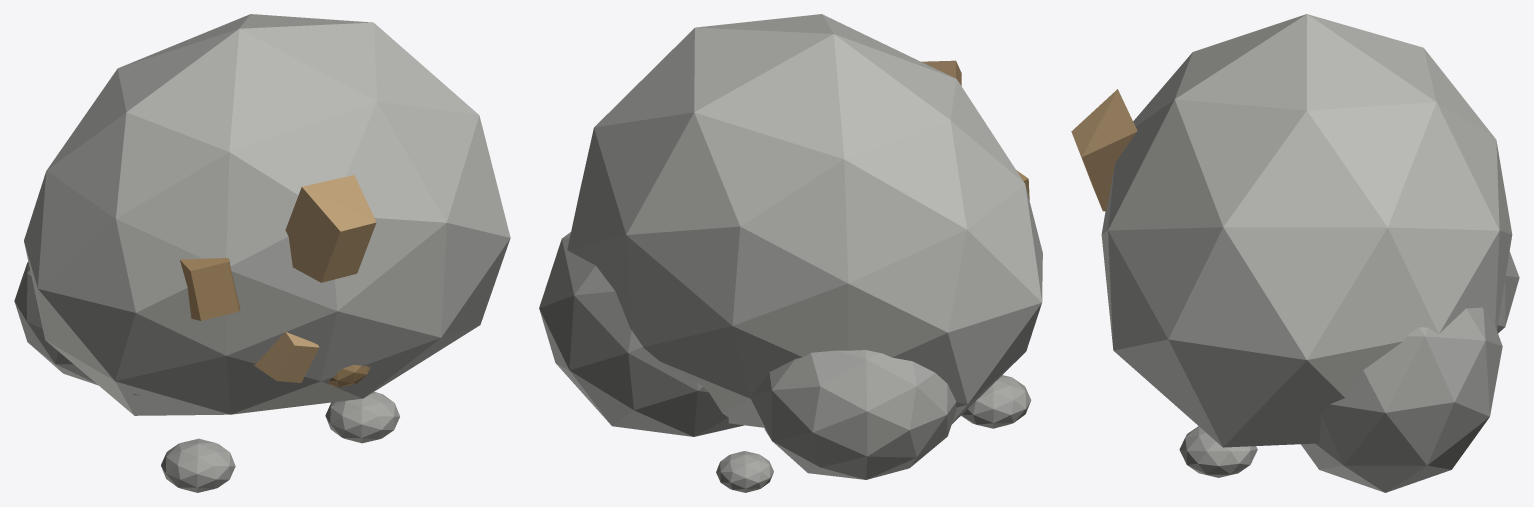
The model's file is temp_minable_rock_allover.glb.
The picture shows the model from 3 angles, left to right: view 1: azimuth 30°, elevation 25°; view 2: azimuth 150°, elevation 25°; view 3: azimuth 270°, elevation 25°; orthographic projection. The views are drawn at different scales.
Parts seen in each view (by area): view 1: MainRock, OreChunk1, Pebble1, OreChunk2, Pebble2, RearStone, OreChunk5, OreNodule3; view 2: MainRock, RearStone, RockLump, Pebble1, Pebble3; view 3: MainRock, RockLump, OreChunk1, Pebble2, RearStone.
Part boxes in pixels (left/top/right/bottom): MainRock: left=24, top=14, right=510, bottom=415; OreChunk1: left=285, top=175, right=376, bottom=282; Pebble1: left=161, top=438, right=235, bottom=492; OreChunk2: left=180, top=258, right=240, bottom=320; Pebble2: left=325, top=392, right=399, bottom=443; RearStone: left=14, top=262, right=98, bottom=385; OreChunk5: left=254, top=332, right=319, bottom=382; OreNodule3: left=328, top=364, right=370, bottom=387; MainRock: left=567, top=14, right=1042, bottom=427; RearStone: left=750, top=350, right=956, bottom=479; RockLump: left=539, top=232, right=743, bottom=436; Pebble1: left=961, top=375, right=1031, bottom=428; Pebble3: left=716, top=451, right=773, bottom=492; MainRock: left=1101, top=14, right=1512, bottom=447; RockLump: left=1301, top=307, right=1502, bottom=492; OreChunk1: left=1071, top=89, right=1137, bottom=211; Pebble2: left=1179, top=426, right=1257, bottom=477; RearStone: left=1497, top=252, right=1519, bottom=333.
Size of the model in its own units: 1.1 by 0.9384 by 0.9137.
